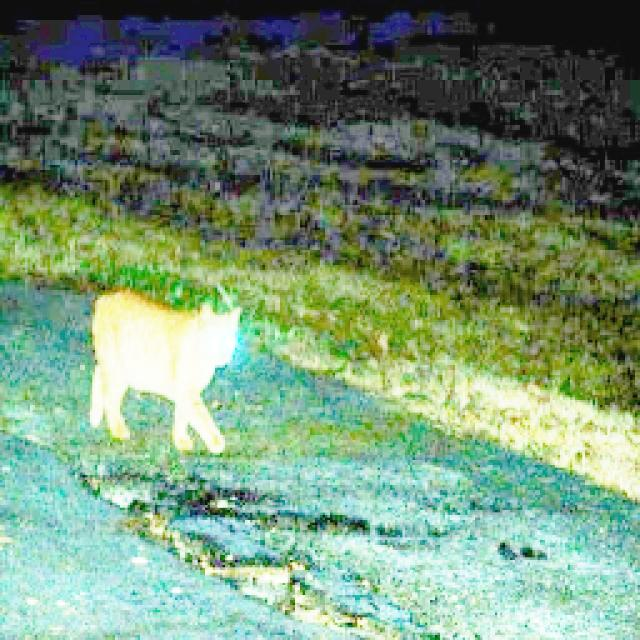cat: (78, 282, 250, 470)
